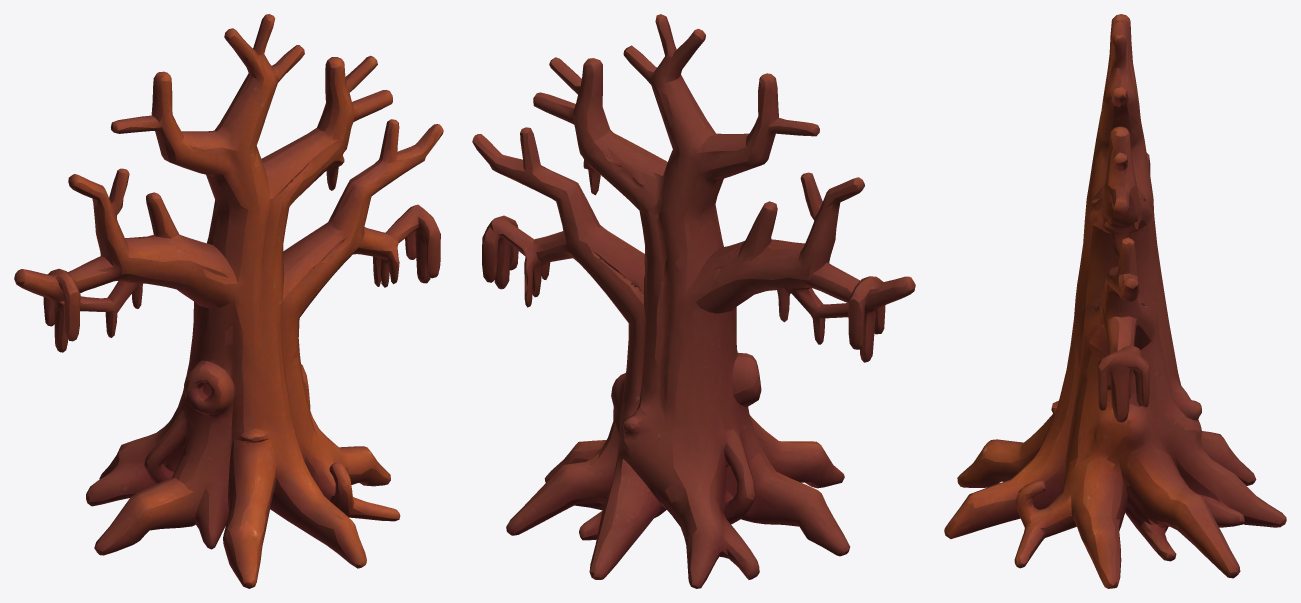
File: a-huge-gnarled-dead-tree-with-tw-7dfa42.glb
The picture shows the model from 3 angles, left to right: view 1: azimuth 30°, elevation 25°; view 2: azimuth 150°, elevation 25°; view 3: azimuth 270°, elevation 25°; orthographic projection.
Visible parts, largest first — view 1: geometry_0; view 2: geometry_0; view 3: geometry_0.
Part boxes in pixels (x1,y1,x2,y2): geometry_0: (14, 14, 443, 588); geometry_0: (472, 14, 915, 588); geometry_0: (944, 14, 1286, 588).
Size of the model in its own units: 0.9109 by 1 by 0.6213.
1 material, 1 textured.
